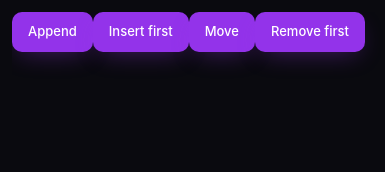
Test: pragmatic form helpers › manages field arrays through form state
The image size is (385, 172).
Click the button "Append" at (52, 32), box [12,12,93,52]
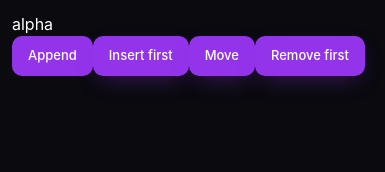
Now the list item "alpha" is shown, box [12,14,53,34]
Click the button "Insert first" at (141, 56), box [93,36,189,76]
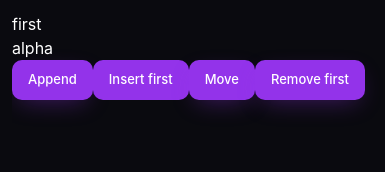
Now the list items read "first", "alpha", in this order, box [12,14,42,34]; [12,38,53,58]
Click the button "Move" at (222, 80), box [189,60,255,100]
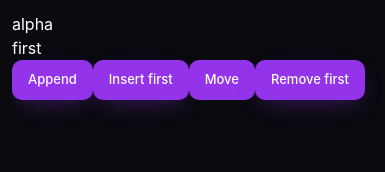
Now the list items read "alpha", "first", in this order, box [12,14,53,34]; [12,38,42,58]
Click the button "Remove first" at (310, 80), box [255,60,365,100]
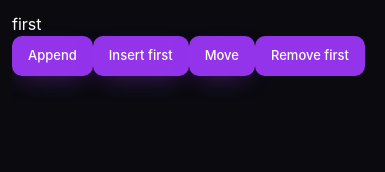
Now the list items read "first", in this order, box [12,14,42,34]
